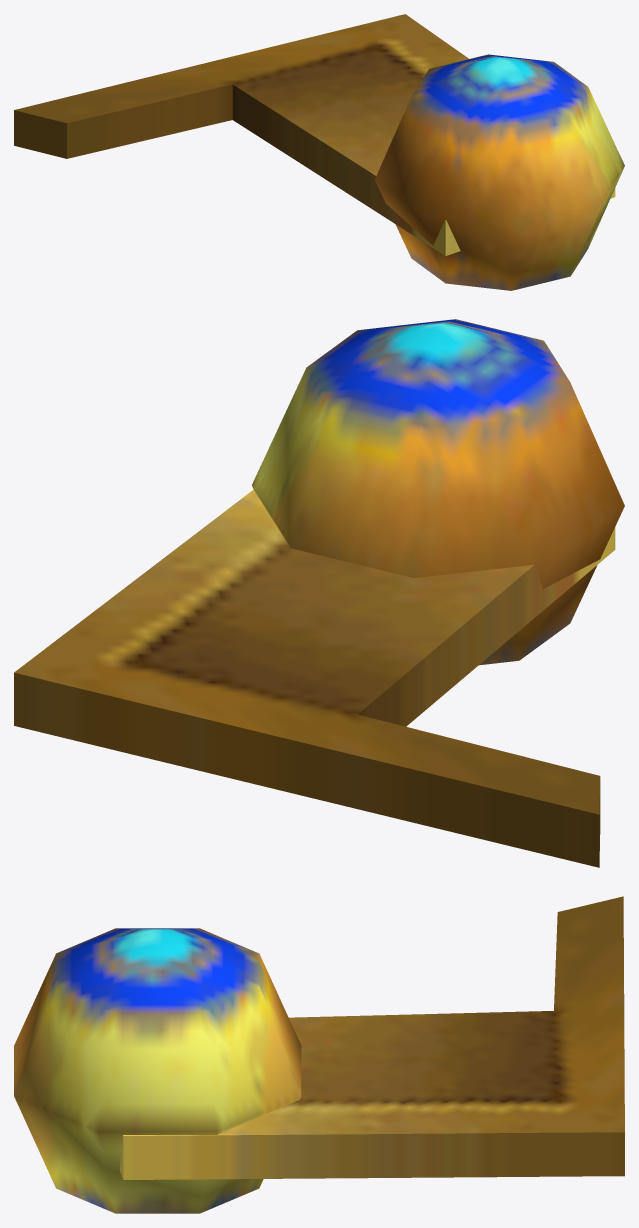
3 renders of one model, top to bottom at view 1: azimuth 30°, elevation 25°; view 2: azimuth 150°, elevation 25°; view 3: azimuth 270°, elevation 25°, orthographic. The views are drawn at different scales.
Visible parts, largest first — view 1: aw203 (×2); view 2: aw203 (×2); view 3: aw203 (×2).
Boxes of the visible parts, x1,y1,x2,y2 form: aw203 (×2): (14,14,624,290); aw203 (×2): (14,319,624,867); aw203 (×2): (14,896,624,1213).
Bounding box in the file's own units: 10.41 × 5.71 × 11.21.
Materials: 2 (2 with a texture image).
